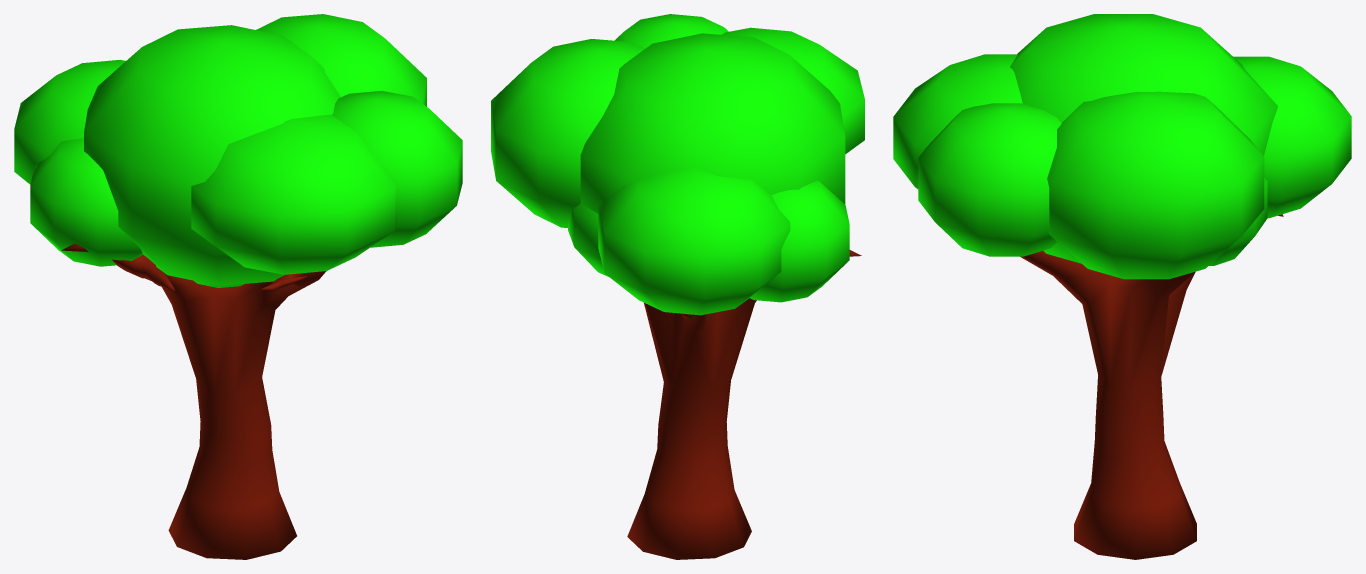
File: 3D_ENV_TREE1.FBX
3 renders of one model, left to right at view 1: azimuth 30°, elevation 25°; view 2: azimuth 150°, elevation 25°; view 3: azimuth 270°, elevation 25°, orthographic. The views are drawn at different scales.
Visible parts, largest first — view 1: Leaves, Tree1; view 2: Leaves, Tree1; view 3: Leaves, Tree1.
Part boxes in pixels (left/top/right/bottom): Leaves: left=14, top=14, right=462, bottom=287; Tree1: left=61, top=244, right=326, bottom=559; Leaves: left=491, top=14, right=864, bottom=315; Tree1: left=627, top=250, right=861, bottom=559; Leaves: left=893, top=14, right=1351, bottom=279; Tree1: left=1020, top=214, right=1283, bottom=559.
Bounding box in the file's own units: 204 × 273 × 227.
